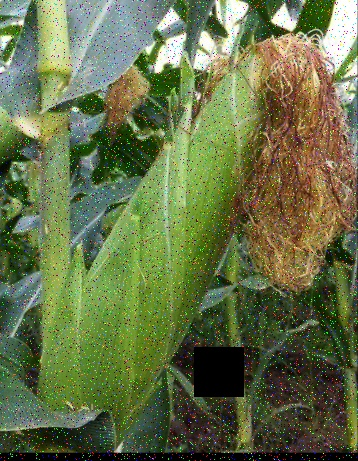corn_plant: (28, 19, 344, 450)
